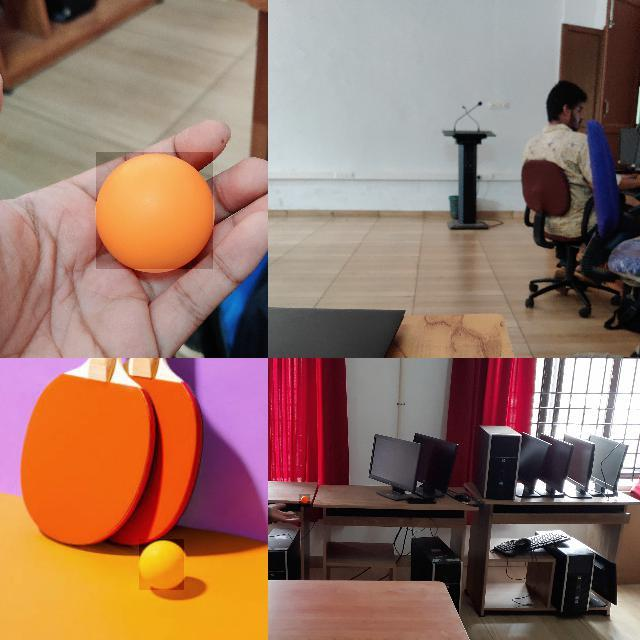ping-pong-ball: (96, 152, 214, 270), (139, 539, 185, 591), (299, 494, 311, 508)
